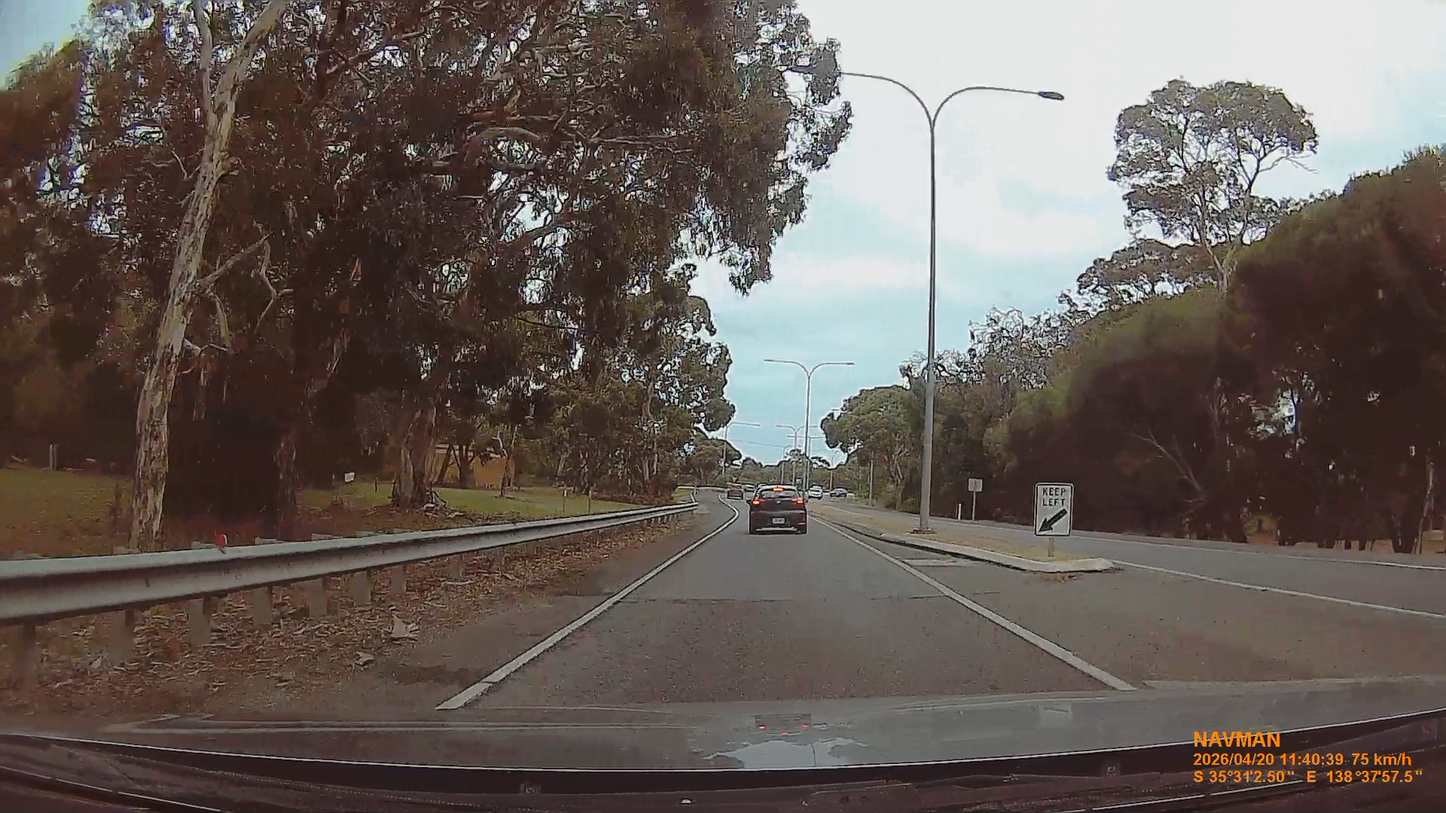road barriers: (2, 504, 685, 624)
